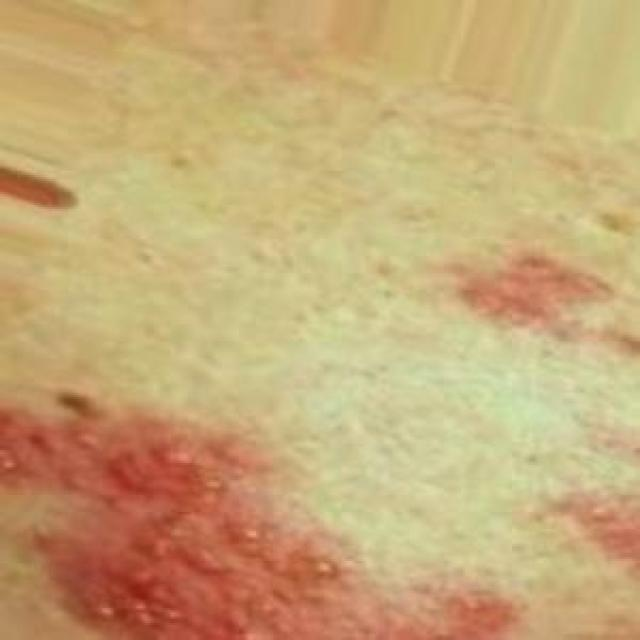Shingles: (0, 383, 514, 640), (448, 248, 614, 332), (558, 492, 640, 570)
